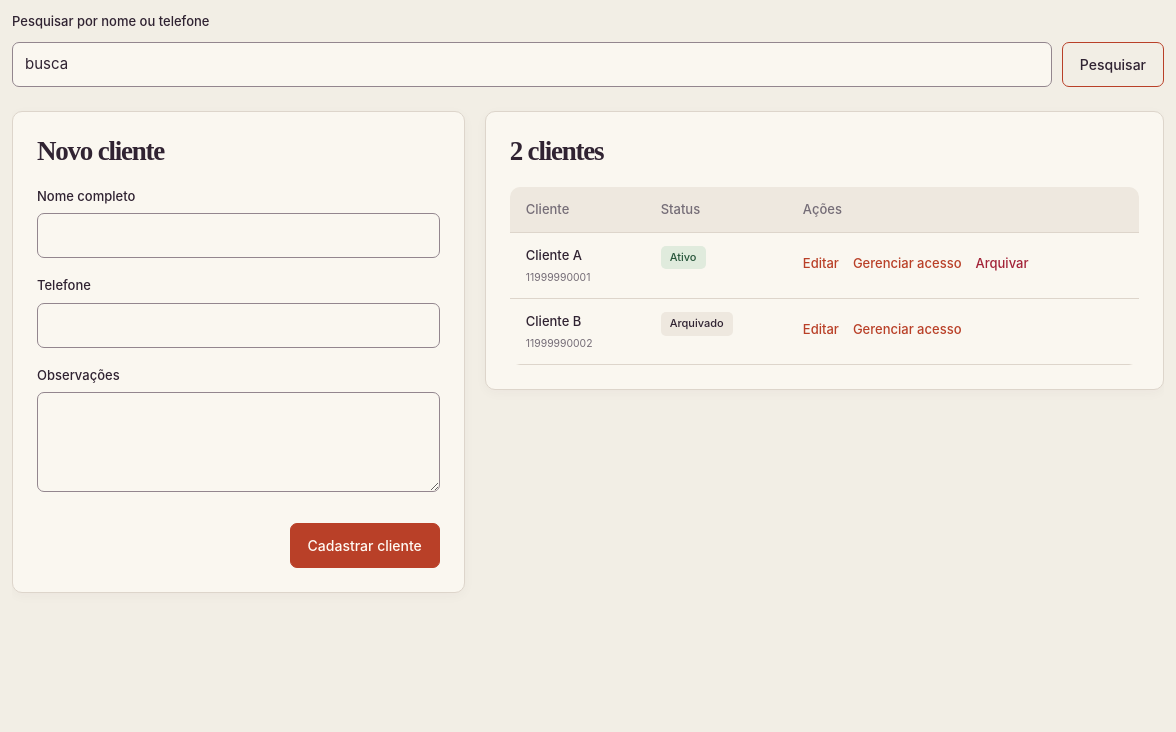
Test: client list and edit presentation › keeps search and record actions and updates all fields when selecting another client
Expected: the field labelled "Pesquisar por nome ou telefone" holds "busca", [12, 42, 1052, 86]
Expected: the table is shown, [510, 186, 1139, 365]
Click the button "Editar" in the row of "Cliente A": (821, 264) [803, 246, 839, 282]
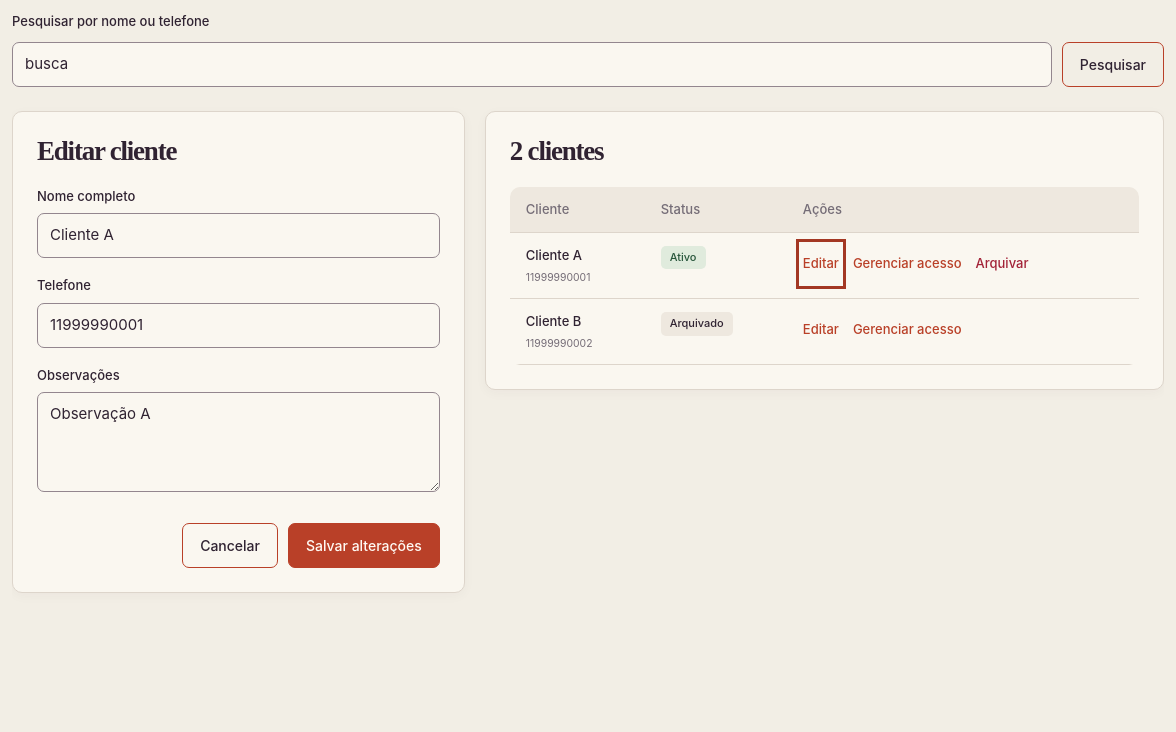
Expected: the field labelled "Nome completo" holds "Cliente A", [37, 213, 440, 258]
Click the button "Editar" in the row of "Cliente B": (821, 330) [803, 312, 839, 348]
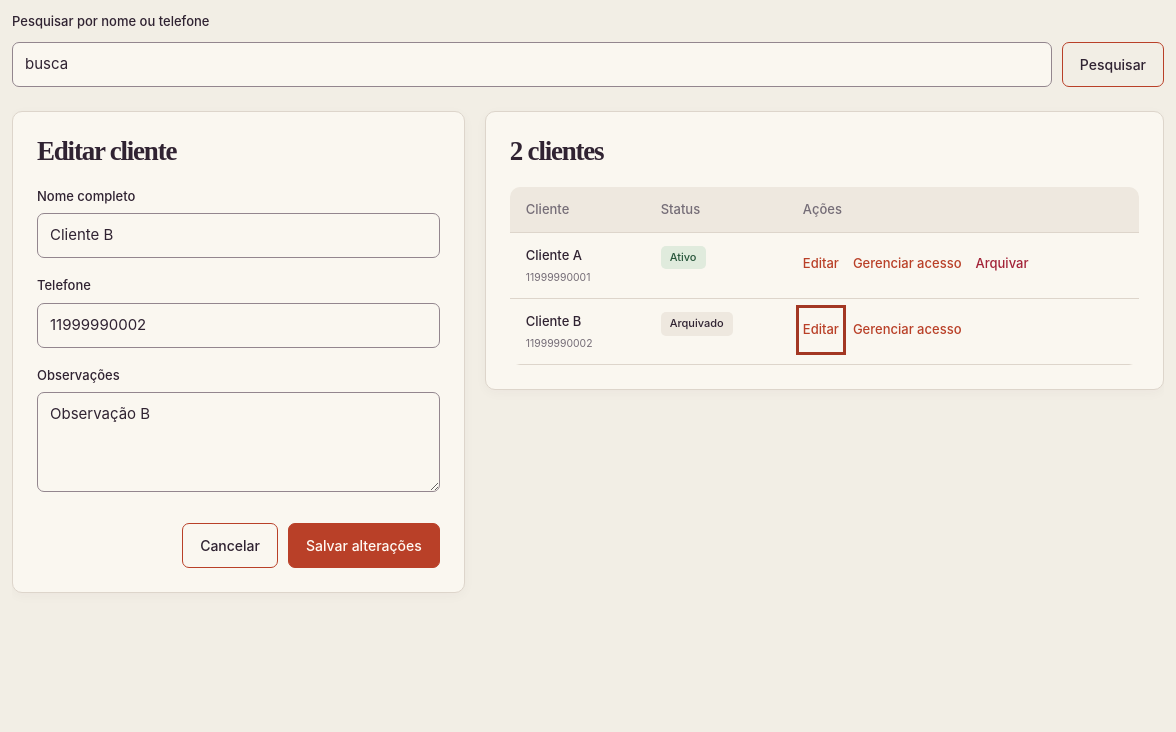
Expected: the field labelled "Nome completo" holds "Cliente B", [37, 213, 440, 258]
Expected: the field labelled "Telefone" holds "11999990002", [37, 302, 440, 348]
Expected: the text box labelled "Observações" holds "Observação B", [37, 392, 440, 492]
Click the button "Cancelar": (230, 545) [182, 522, 278, 568]
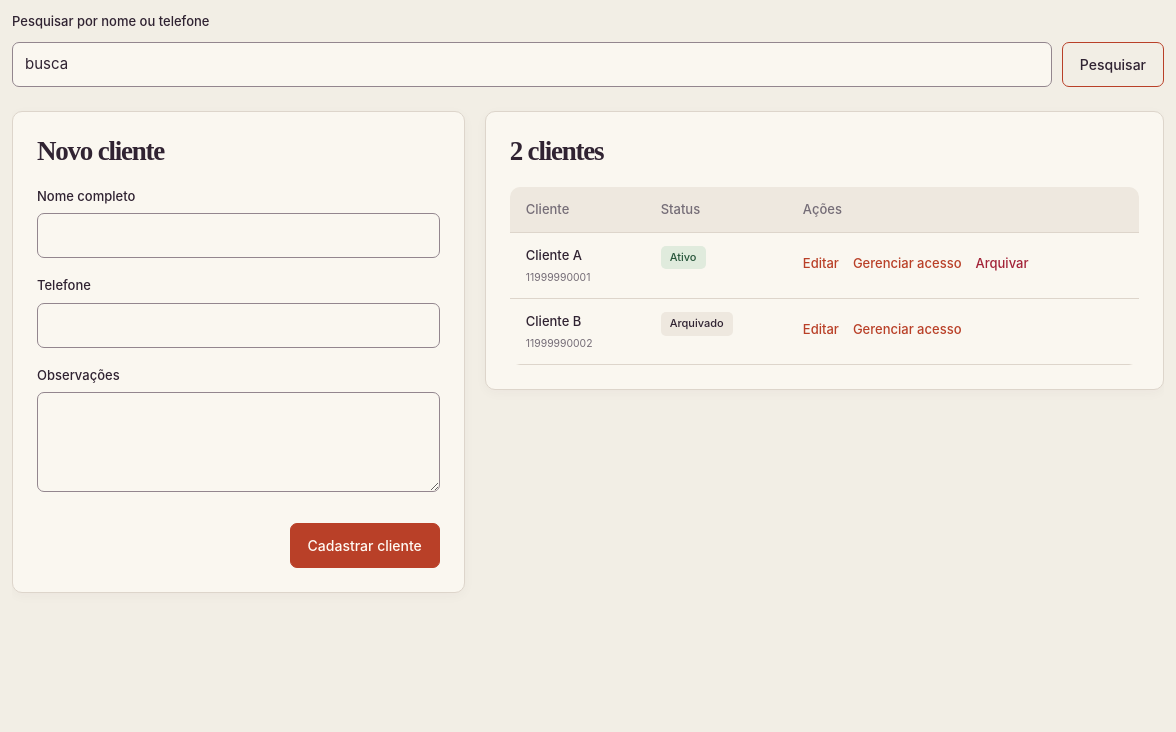
Expected: the field labelled "Nome completo" is empty, [37, 213, 440, 258]
